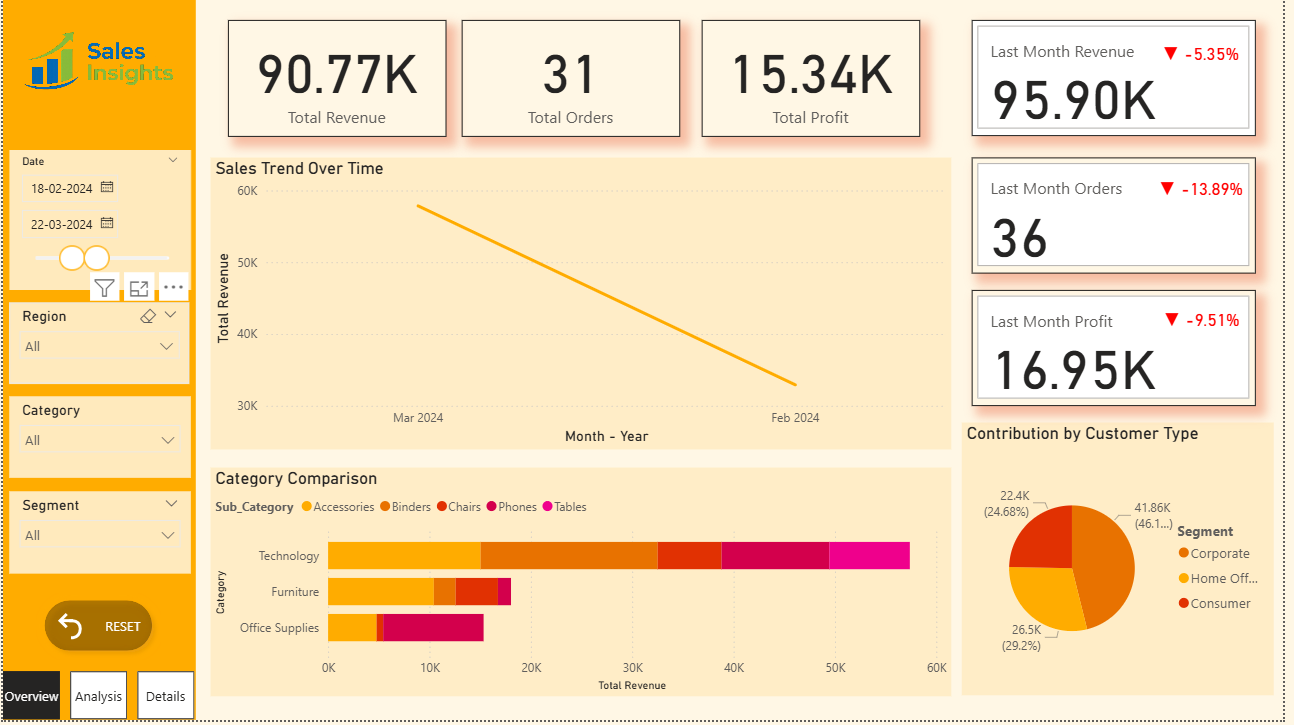

This screenshot's page, from the dashboard's own definition file:
{"tool":"powerbi","page":{"name":"Overview","canvas":[1280,720],"ordinal":0},"visuals":[{"type":"shape","box":[0,0,192.9,720],"z":0},{"type":"slicer","fields":{"Values":["Sales_Data.Order_Date"]},"box":[6,150,181.3,140],"z":1000},{"type":"slicer","fields":{"Values":["Sales_Data.Region"]},"box":[6,302,180,81.3],"z":2000},{"type":"slicer","fields":{"Values":["Sales_Data.Category","Sales_Data.Sub_Category"]},"box":[6,396.7,181.3,81.3],"z":3000},{"type":"slicer","fields":{"Values":["Sales_Data.Segment"]},"box":[6,490.7,181.3,82.7],"z":4000},{"type":"actionButton","box":[32.9,591.4,125.7,68.6],"z":5000},{"type":"pageNavigator","box":[0,671.8,192.9,48.2],"z":6000},{"type":"card","fields":{"Values":["Sales_Data.Total Revenue"]},"box":[225,20,218.3,116.7],"z":7000},{"type":"card","fields":{"Values":["Sales_Data.Total Orders"]},"box":[458.3,20,218.3,116.7],"z":8000},{"type":"card","fields":{"Values":["Sales_Data.Total Profit"]},"box":[698.3,20,218.3,116.7],"z":9000},{"type":"cardVisual","fields":{"Data":["Sales_Data.Last Month Orders"]},"box":[968.6,157.1,284.3,115.7],"z":10000},{"type":"cardVisual","fields":{"Data":["Sales_Data.Last Month Profit"]},"box":[968.6,290,284.3,115.7],"z":11000},{"type":"cardVisual","fields":{"Data":["Sales_Data.Last Month Revenue"]},"box":[968.6,20,284.3,115.7],"z":12000},{"type":"card","fields":{"Values":["Sales_Data.Revenue KPI"]},"box":[1132.5,30.6,129.4,47.5],"z":13000},{"type":"card","fields":{"Values":["Sales_Data.Orders KPI"]},"box":[1146.2,170,102.5,38.8],"z":14000},{"type":"card","fields":{"Values":["Sales_Data.Profit KPI"]},"box":[1144.4,298.1,106.2,44.4],"z":15000},{"type":"lineChart","title":"Sales Trend Over Time","fields":{"Category":["Sales_Data.MonthYear"],"Y":["Sales_Data.Total Revenue"]},"box":[207.9,157.7,741,292.3],"z":16000},{"type":"barChart","title":"Category Comparison","fields":{"Category":["Sales_Data.Category"],"Y":["Sales_Data.Total Revenue"],"Series":["Sales_Data.Sub_Category"]},"box":[207.9,467.1,741,228.7],"z":17000},{"type":"pieChart","title":"Contribution by Customer Type","fields":{"Category":["Sales_Data.Segment"],"Y":["Sales_Data.Total Revenue"]},"box":[958.7,423.1,311.8,272.7],"z":18000},{"type":"image","box":[10,20,173.3,78.3],"z":19000}]}

Visuals, with their boxes on the page's 1280x720 design canvas (x1, y1, x2, y2). These are canvas units, not pixel positions in the 1294x725 screenshot, which may show the page scaled, cropped or inside an application window:
shape: (0, 0, 193, 720)
slicer - Sales_Data.Order_Date: (6, 150, 187, 290)
slicer - Sales_Data.Region: (6, 302, 186, 383)
slicer - Sales_Data.Category x Sales_Data.Sub_Category: (6, 397, 187, 478)
slicer - Sales_Data.Segment: (6, 491, 187, 573)
actionButton: (33, 591, 159, 660)
pageNavigator: (0, 672, 193, 720)
card - Sales_Data.Total Revenue: (225, 20, 443, 137)
card - Sales_Data.Total Orders: (458, 20, 677, 137)
card - Sales_Data.Total Profit: (698, 20, 917, 137)
cardVisual - Sales_Data.Last Month Orders: (969, 157, 1253, 273)
cardVisual - Sales_Data.Last Month Profit: (969, 290, 1253, 406)
cardVisual - Sales_Data.Last Month Revenue: (969, 20, 1253, 136)
card - Sales_Data.Revenue KPI: (1132, 31, 1262, 78)
card - Sales_Data.Orders KPI: (1146, 170, 1249, 209)
card - Sales_Data.Profit KPI: (1144, 298, 1251, 342)
"Sales Trend Over Time" lineChart: (208, 158, 949, 450)
"Category Comparison" barChart: (208, 467, 949, 696)
"Contribution by Customer Type" pieChart: (959, 423, 1270, 696)
image: (10, 20, 183, 98)
